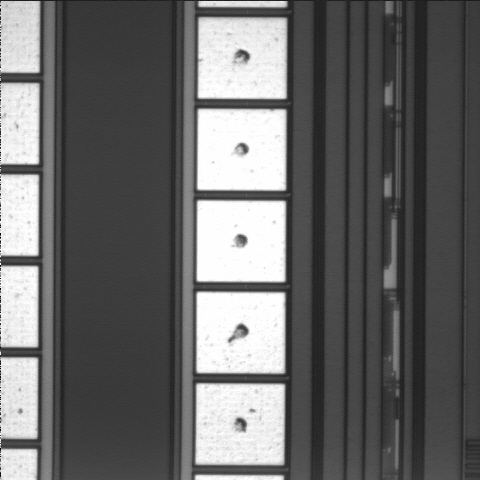pad: (197, 109, 286, 191), (197, 200, 286, 282), (196, 383, 285, 465), (198, 18, 287, 99), (196, 292, 285, 373)
